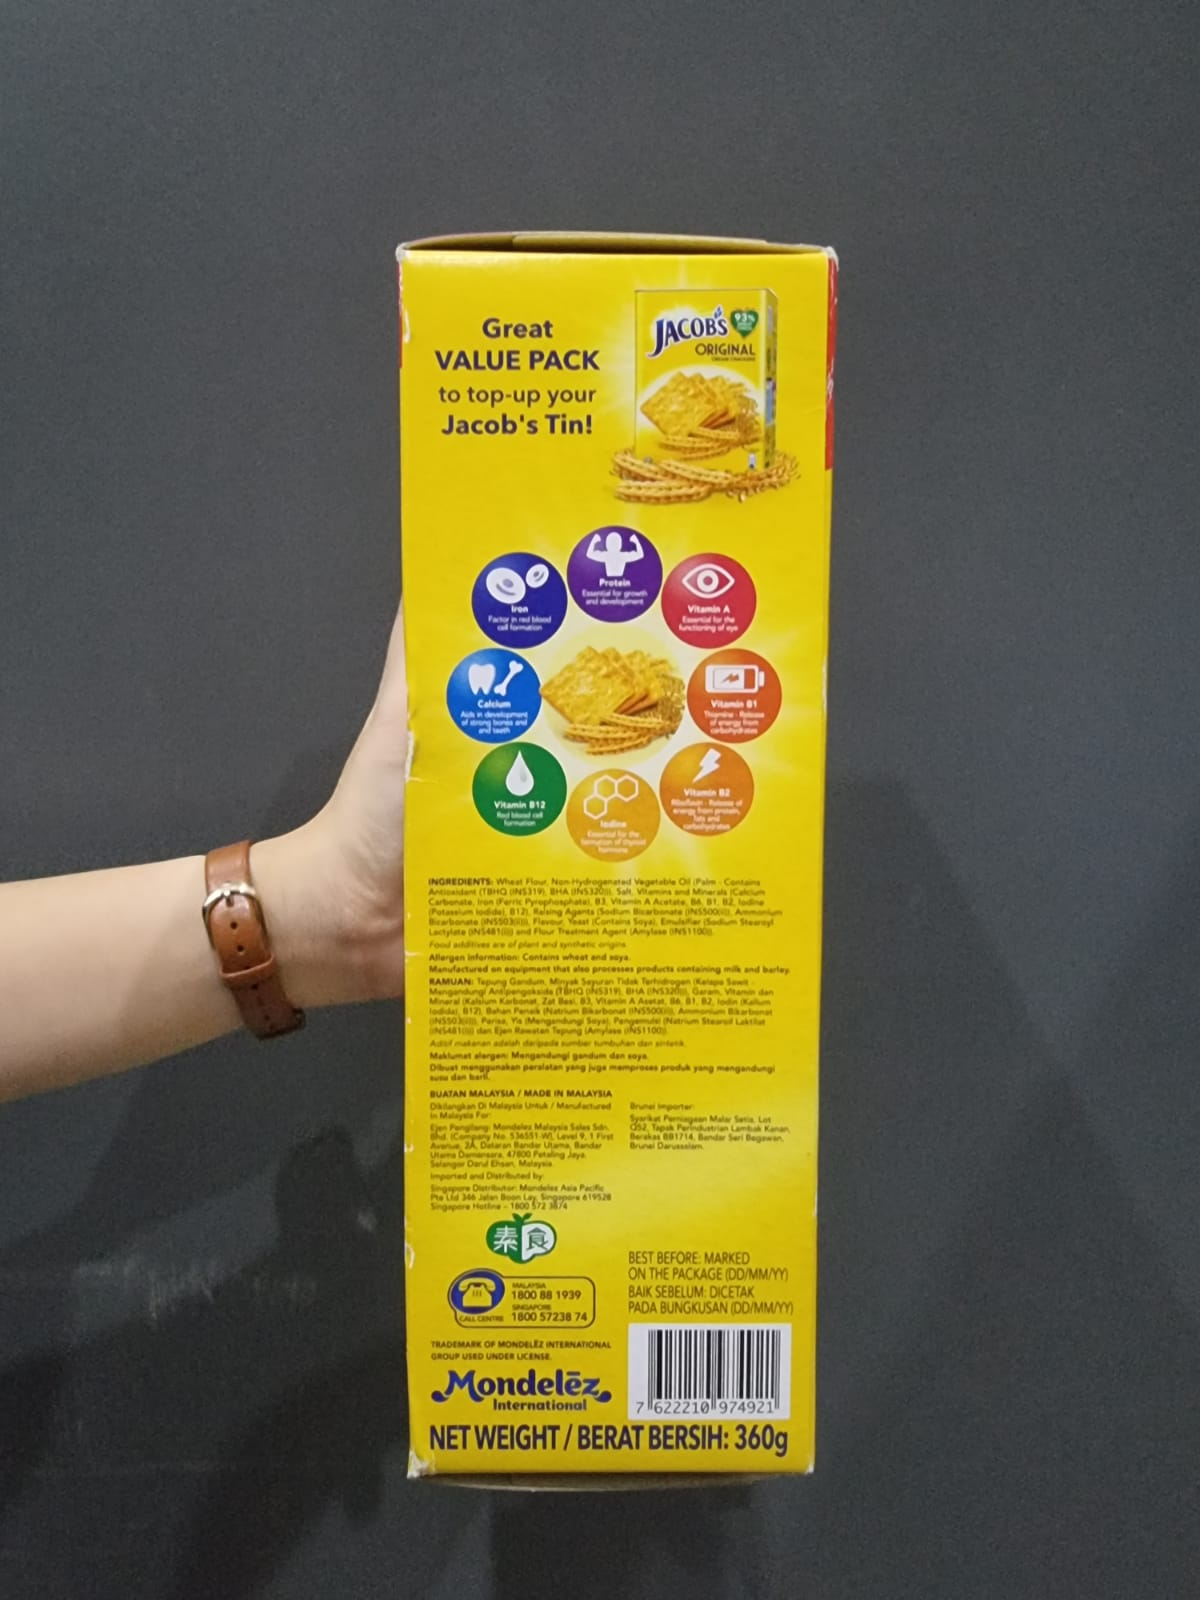Biscuits: (418, 271, 811, 1468)
